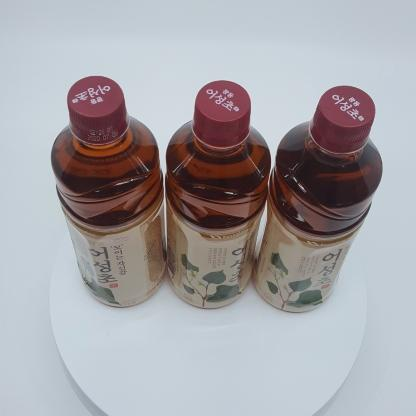--------500ml: (252, 85, 383, 312), (51, 76, 167, 307), (165, 80, 271, 308)
